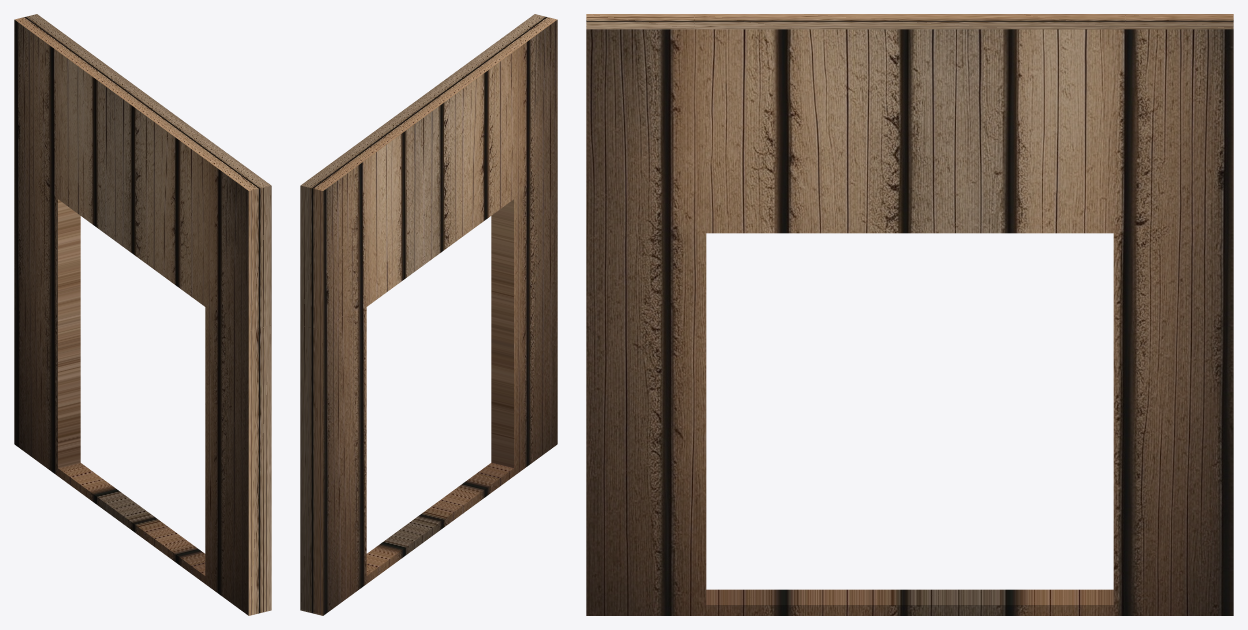
Rendered from DoorV1.fbx.
3 renders of one model, left to right at view 1: azimuth 30°, elevation 25°; view 2: azimuth 150°, elevation 25°; view 3: azimuth 270°, elevation 25°, orthographic. The views are drawn at different scales.
Parts seen in each view (by area): view 1: Cube.001; view 2: Cube.001; view 3: Cube.001.
Part boxes in pixels (bbox=[...]): Cube.001: bbox=[14, 14, 271, 615]; Cube.001: bbox=[300, 14, 557, 615]; Cube.001: bbox=[586, 14, 1233, 615].
Bounding box in the file's own units: 3.41 × 60.96 × 60.96.
